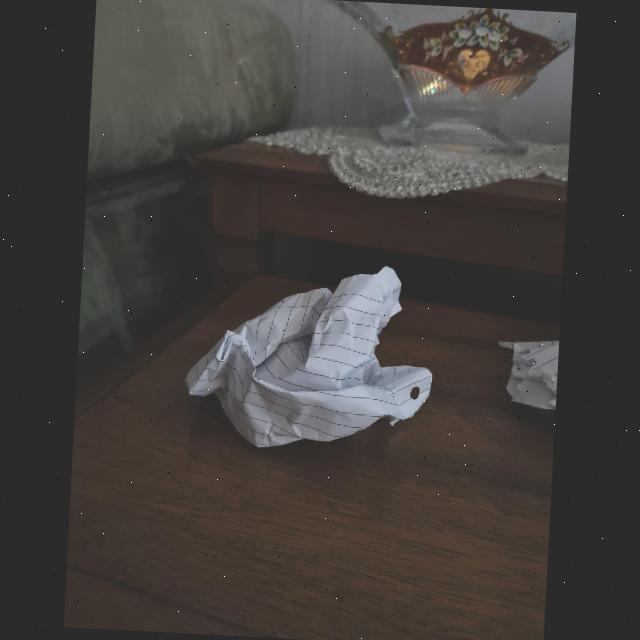trash: (183, 257, 439, 456)
